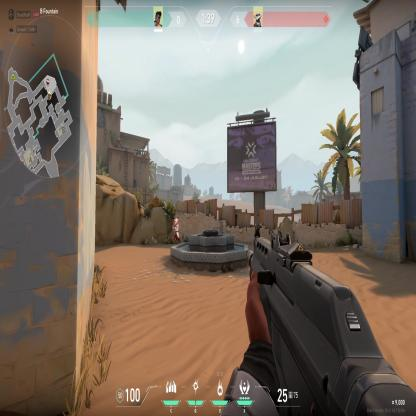enemy: (172, 217, 180, 245)
